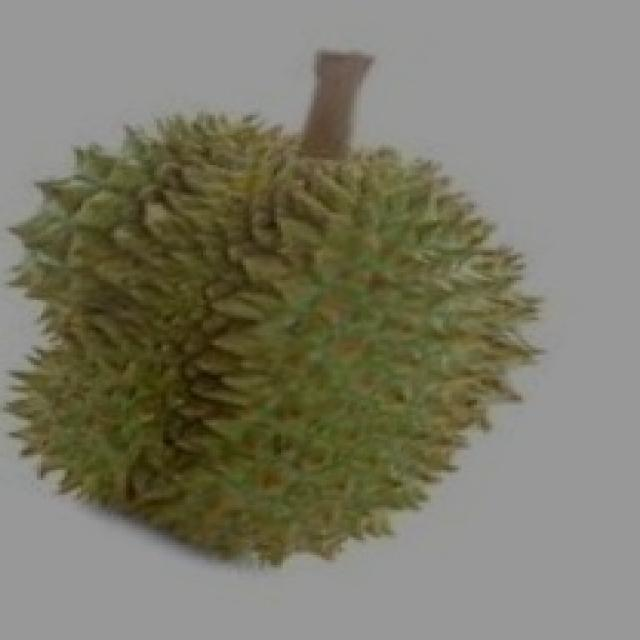fruit: (0, 240, 366, 608)
